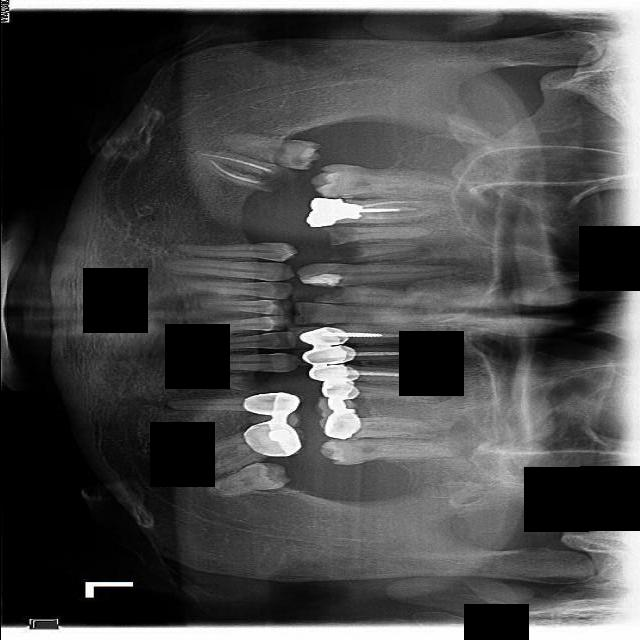71: (319, 332, 386, 338), (362, 208, 400, 213)
72: (337, 235, 430, 264)
74: (206, 160, 260, 188), (215, 153, 273, 174), (368, 196, 428, 208), (343, 371, 433, 378), (348, 349, 416, 357), (358, 215, 425, 219), (379, 333, 426, 338)
NucleOSS Implant: (307, 198, 361, 225)
Sterngold Implant: (255, 161, 299, 197), (233, 368, 272, 395), (302, 284, 351, 304), (322, 223, 358, 247), (332, 245, 364, 264), (291, 154, 309, 165), (301, 321, 324, 326)
Straumann Implant: (305, 272, 342, 284)
Zimmer Implant: (245, 422, 305, 456), (241, 391, 301, 419), (289, 324, 350, 349), (295, 342, 356, 367), (317, 408, 362, 441), (318, 393, 358, 419), (306, 364, 358, 383), (315, 380, 359, 400), (251, 410, 298, 427)
